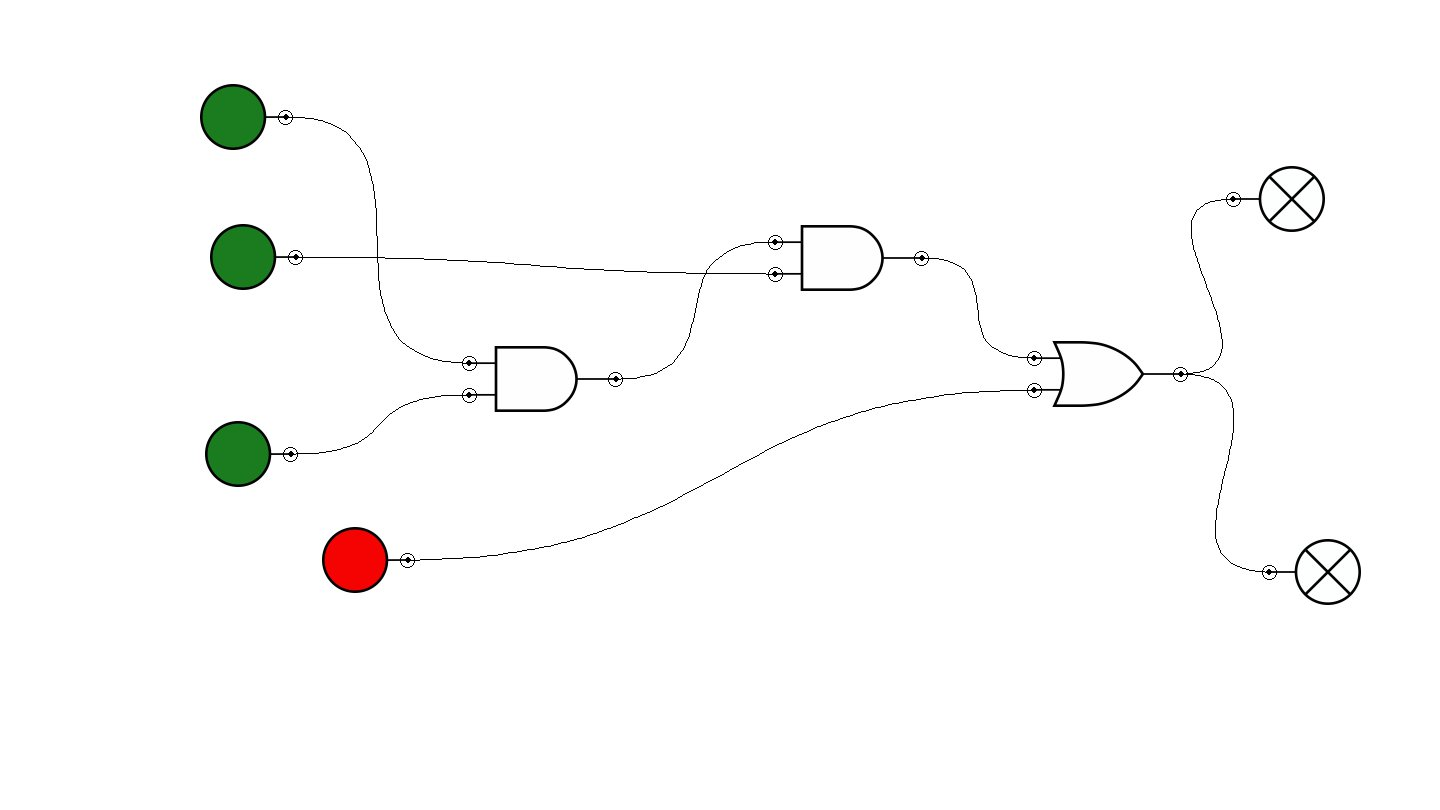and: (768, 225, 929, 291), (462, 346, 623, 412)
bulb: (1262, 539, 1361, 605), (1226, 166, 1325, 232)
or: (1027, 341, 1188, 407)
switch_False: (322, 527, 415, 593)
switch_True: (200, 84, 293, 150), (210, 224, 303, 290), (205, 421, 298, 487)
